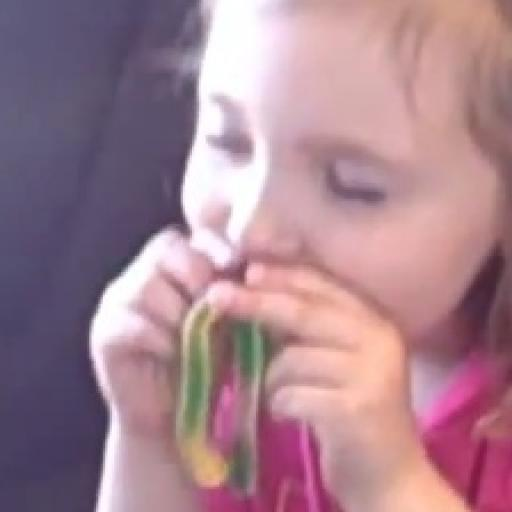Autism: (148, 73, 512, 500)
